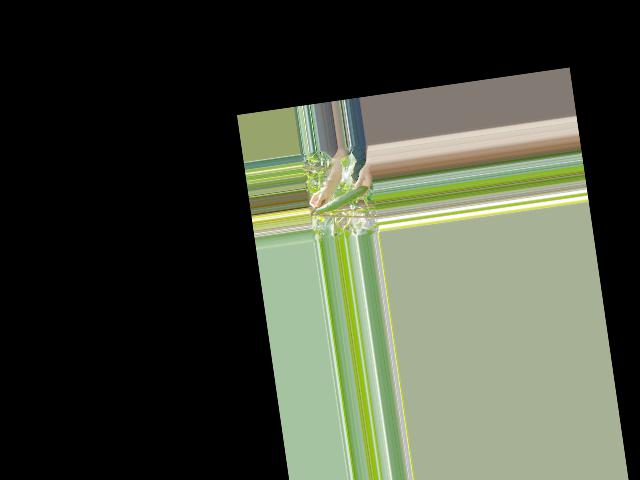cucumber: (313, 184, 370, 213)
